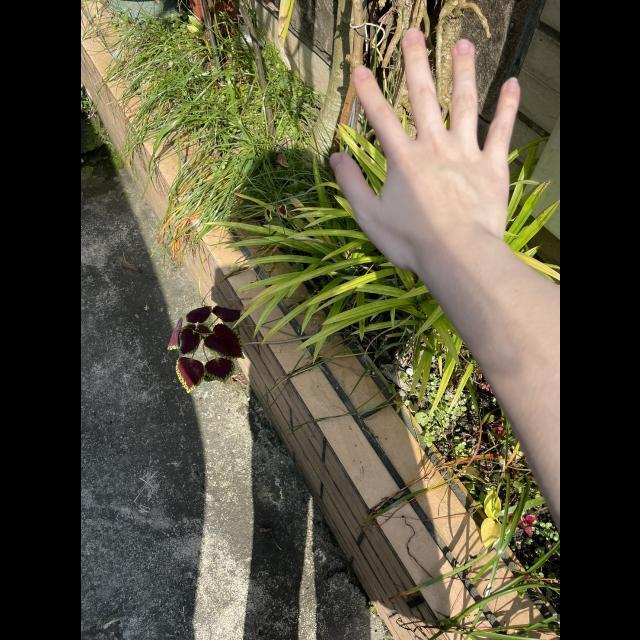bare_hand: (326, 26, 522, 269)
